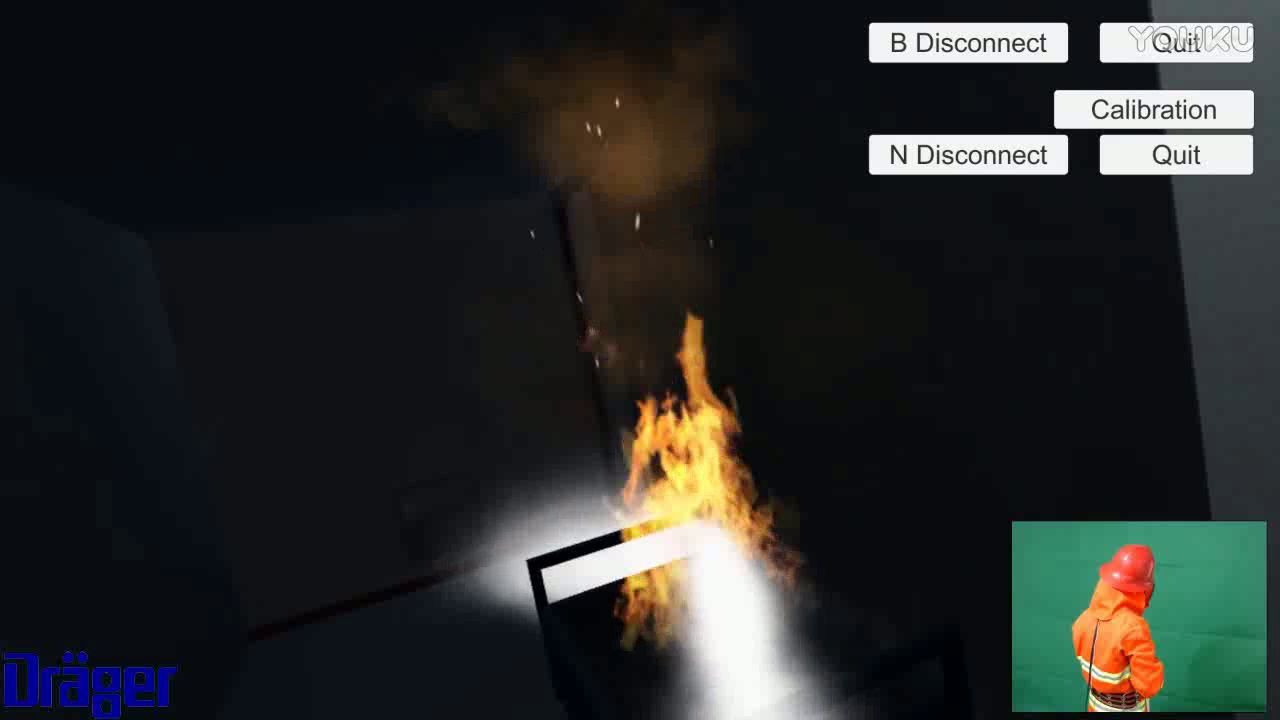fire: (602, 300, 806, 637)
